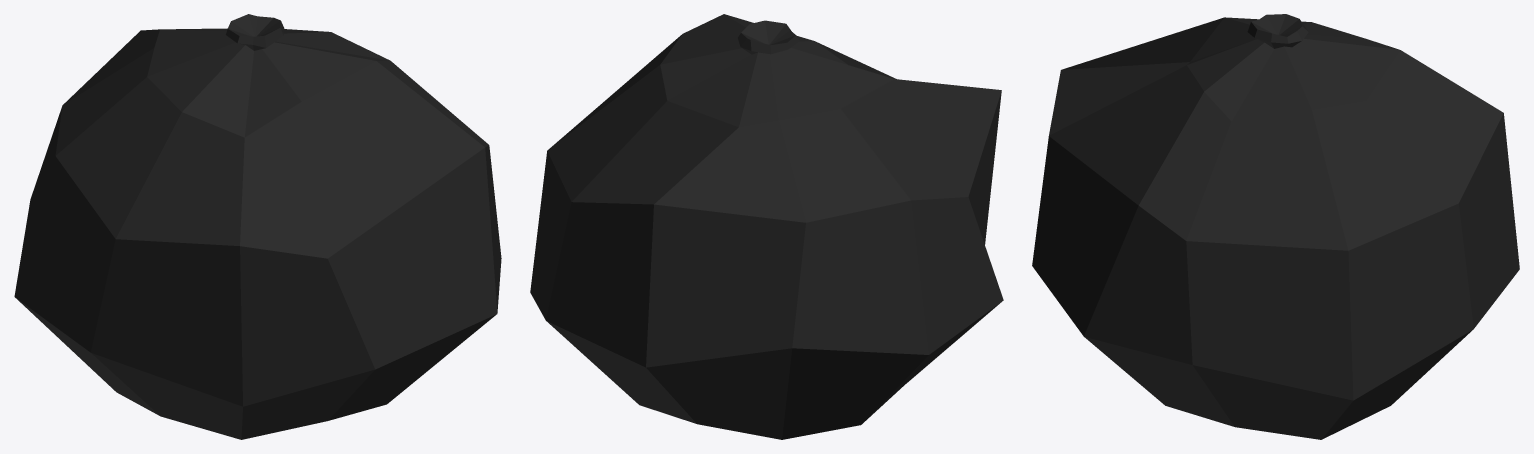
The model's file is Garbage_Bag_01.FBX.
3 views of the same model, side by side, from view 1: azimuth 30°, elevation 25°; view 2: azimuth 150°, elevation 25°; view 3: azimuth 270°, elevation 25° (orthographic). The views are drawn at different scales.
Parts seen in each view (by area): view 1: Garbage_Bag_01; view 2: Garbage_Bag_01; view 3: Garbage_Bag_01.
Boxes of the visible parts, x1,y1,x2,y2 form: Garbage_Bag_01: (14, 14, 501, 439); Garbage_Bag_01: (530, 14, 1003, 439); Garbage_Bag_01: (1032, 14, 1519, 439).
Bounding box in the file's own units: 17.06 × 14.83 × 18.17.
